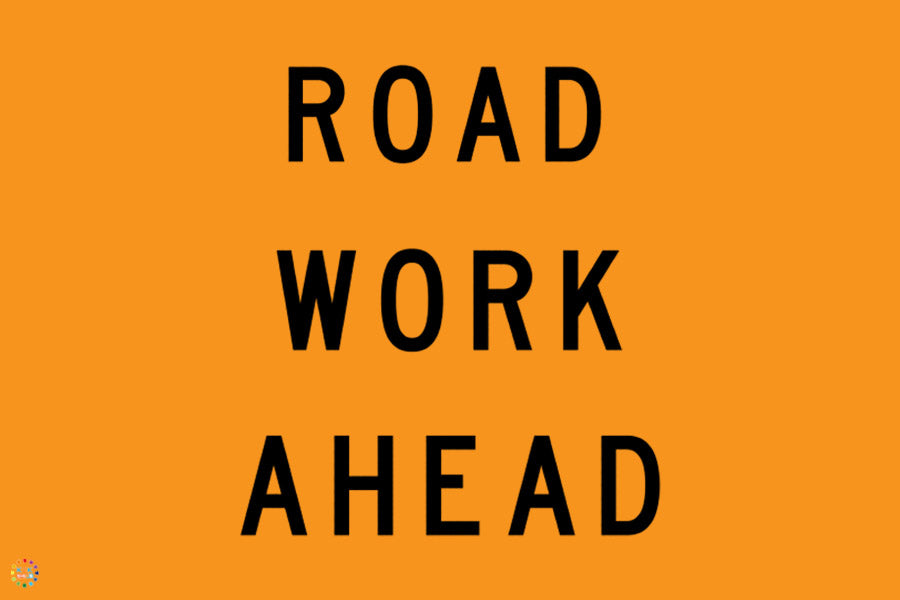Road_workahead: (108, 12, 757, 556)
